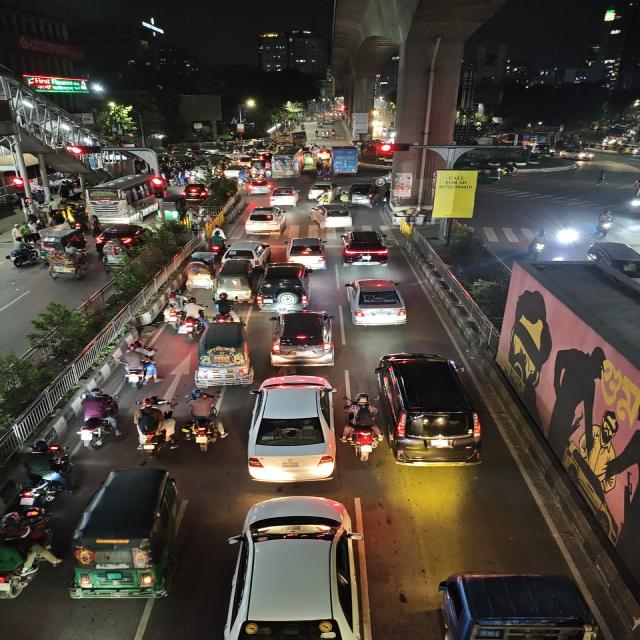bus: (245, 375, 342, 484), (86, 176, 159, 223), (268, 148, 304, 178)
car: (225, 493, 371, 640), (375, 348, 483, 472), (244, 373, 342, 485), (267, 309, 338, 369), (342, 276, 409, 332), (585, 239, 640, 297), (338, 229, 393, 267), (284, 235, 328, 269), (218, 239, 273, 266), (242, 204, 288, 236), (94, 222, 149, 248), (309, 202, 353, 230), (346, 182, 382, 208), (618, 176, 640, 215), (305, 180, 338, 202), (268, 186, 300, 207), (561, 147, 595, 165), (182, 182, 210, 200), (245, 178, 272, 195)
cng: (68, 467, 190, 601), (430, 568, 614, 640), (192, 319, 254, 389), (255, 260, 311, 315), (216, 260, 258, 302), (160, 198, 183, 222), (532, 143, 556, 157)
motorcycle: (74, 386, 122, 451), (0, 536, 47, 602), (182, 388, 227, 454), (341, 390, 381, 463), (134, 396, 174, 458), (23, 439, 72, 489), (111, 342, 162, 389), (170, 295, 205, 337), (158, 292, 189, 334), (8, 241, 36, 269), (591, 207, 617, 237), (523, 234, 550, 260), (215, 290, 238, 318), (205, 226, 229, 252)
pedestrian: (22, 219, 43, 247), (10, 222, 26, 244), (594, 169, 610, 187)
rickshaw: (45, 248, 89, 282), (100, 240, 135, 275), (181, 259, 215, 291), (306, 181, 336, 202)
truck: (329, 142, 364, 176)
